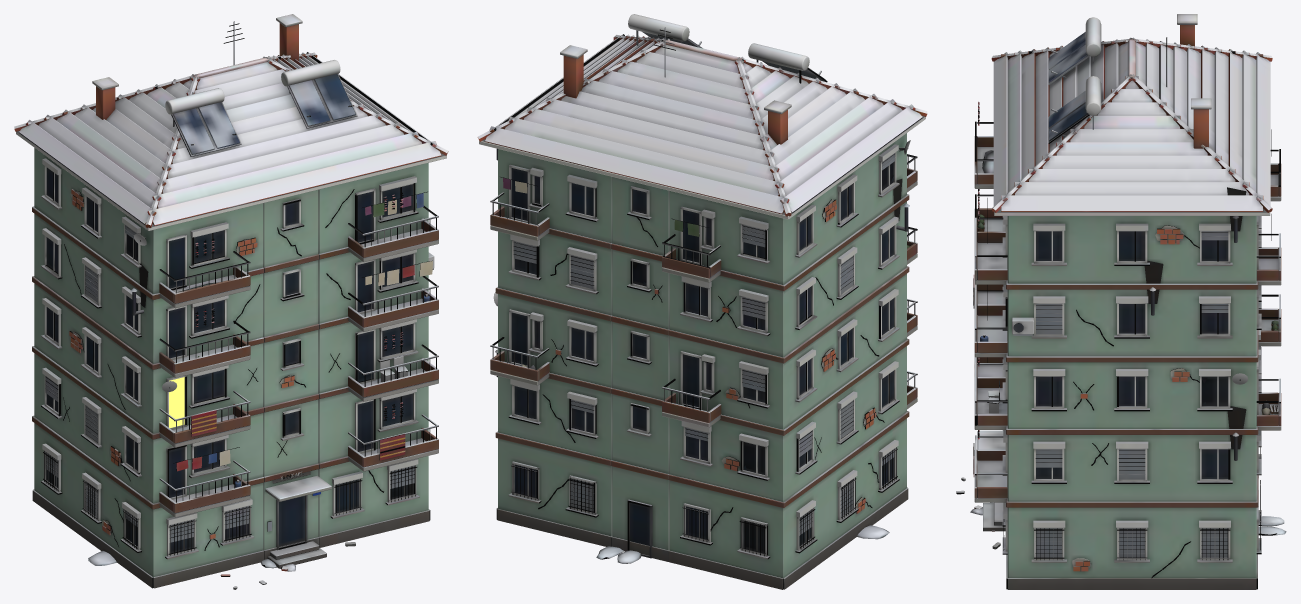
File: bld_apt_mint_4.glb
The picture shows the model from 3 angles, left to right: view 1: azimuth 30°, elevation 25°; view 2: azimuth 150°, elevation 25°; view 3: azimuth 270°, elevation 25°; orthographic projection. The views are drawn at different scales.
Parts seen in each view (by area): view 1: bld_apt_mint_4, bld_apt_mint_4_glow; view 2: bld_apt_mint_4; view 3: bld_apt_mint_4.
Boxes of the visible parts, x1,y1,x2,y2 form: bld_apt_mint_4: (14,14,448,589); bld_apt_mint_4_glow: (169,377,184,427); bld_apt_mint_4: (477,14,927,589); bld_apt_mint_4: (956,14,1286,589).
Bounding box in the file's own units: 13.56 × 19.65 × 11.95.
2 materials, 1 textured.
